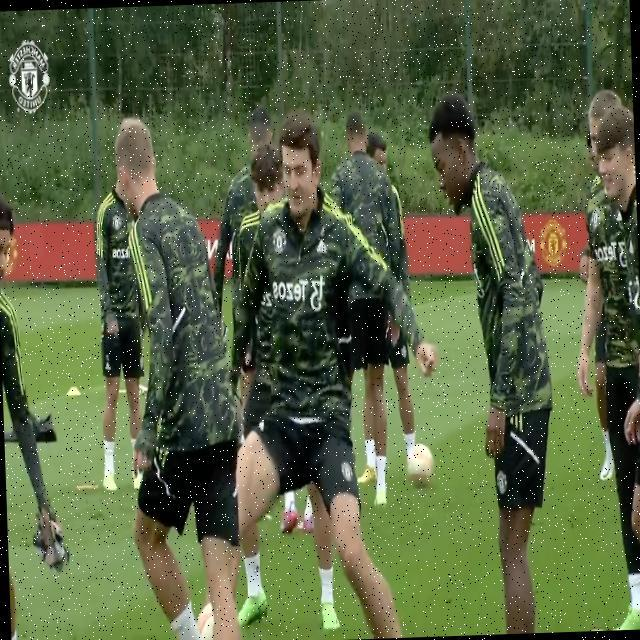Adidas: (315, 238, 327, 255)
